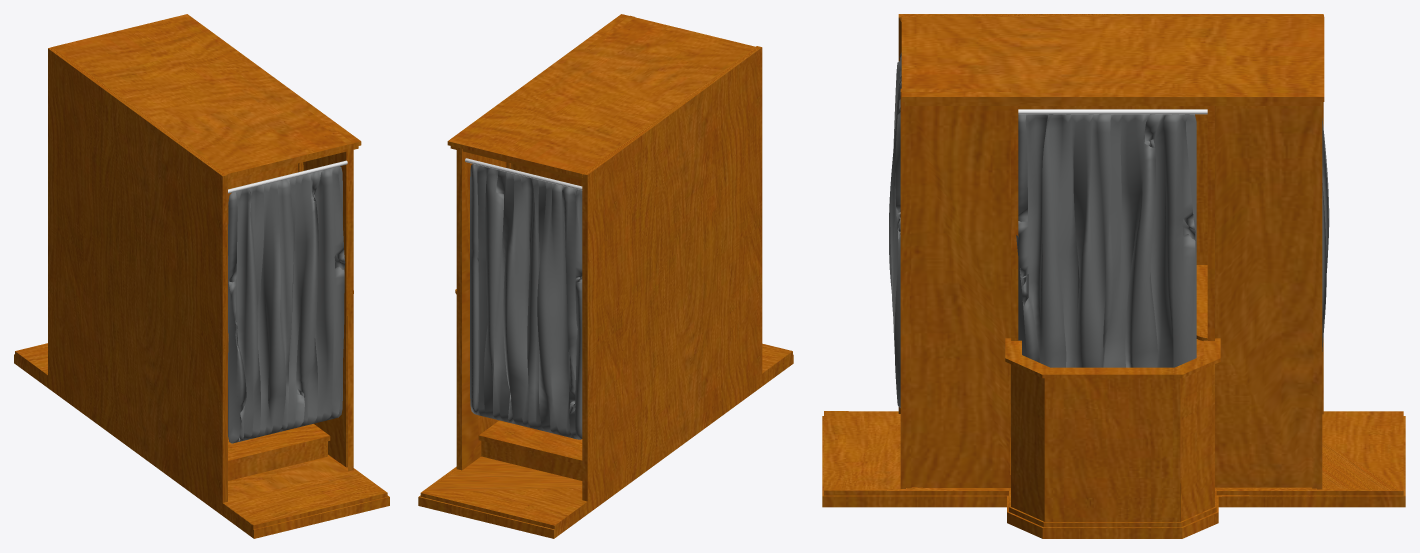
The model's file is confessional.fbx.
3 renders of one model, left to right at view 1: azimuth 30°, elevation 25°; view 2: azimuth 150°, elevation 25°; view 3: azimuth 270°, elevation 25°, orthographic. The views are drawn at different scales.
Parts seen in each view (by area): view 1: instance_0, leftCurtain, instance_0.006, leftCurtainHolder; view 2: instance_0, rightCurtain, rightCurtainHolder, instance_0.005; view 3: instance_0, frontCurtain, instance_0.046, leftCurtain, rightCurtain, frontCurtainHolder.
Part boxes in pixels (bbox=[...]): instance_0: bbox=[14, 14, 389, 538]; leftCurtain: bbox=[228, 166, 345, 443]; instance_0.006: bbox=[228, 163, 299, 223]; leftCurtainHolder: bbox=[228, 160, 347, 193]; instance_0: bbox=[418, 14, 793, 538]; rightCurtain: bbox=[470, 164, 582, 439]; rightCurtainHolder: bbox=[465, 158, 582, 190]; instance_0.005: bbox=[509, 163, 582, 186]; instance_0: bbox=[822, 14, 1405, 538]; frontCurtain: bbox=[1016, 114, 1196, 367]; instance_0.046: bbox=[1042, 367, 1182, 521]; leftCurtain: bbox=[889, 52, 901, 407]; rightCurtain: bbox=[1322, 118, 1329, 351]; frontCurtainHolder: bbox=[1018, 109, 1207, 114].
Size of the model in its own units: 309 by 527 by 674.
